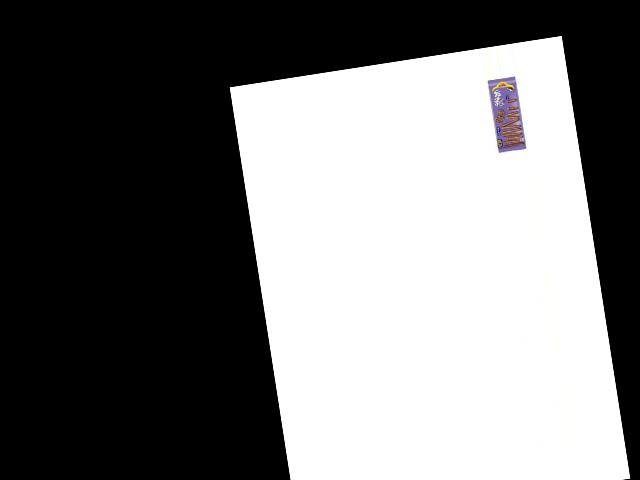chocolate: (486, 74, 530, 154)
